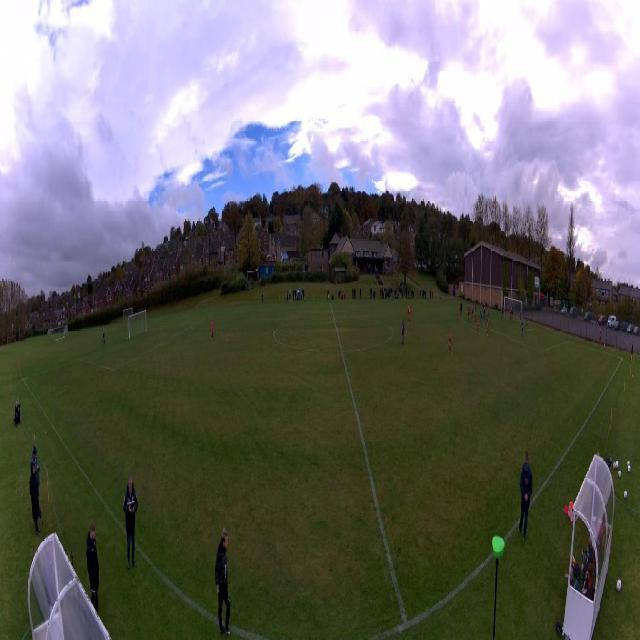player: (448, 326, 452, 353), (401, 319, 405, 345), (211, 319, 215, 340), (408, 307, 411, 331), (477, 314, 479, 333), (408, 302, 410, 321), (480, 307, 482, 325), (487, 318, 489, 336), (460, 301, 462, 319), (457, 304, 459, 322), (522, 321, 524, 339), (472, 304, 474, 321), (468, 305, 470, 322), (483, 303, 485, 319), (475, 305, 477, 321), (509, 306, 511, 321), (511, 306, 513, 320), (502, 306, 504, 320), (520, 312, 522, 324), (487, 306, 489, 317), (527, 312, 528, 326)
